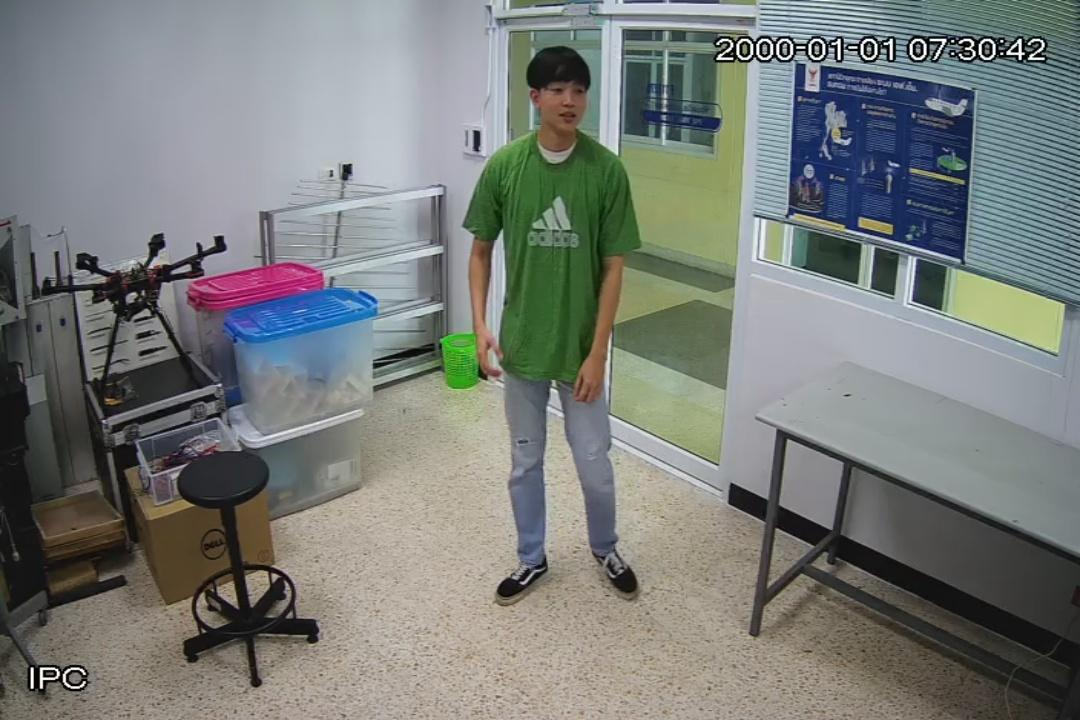normal: (469, 46, 639, 606)
